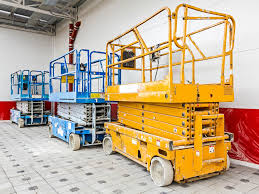Scissor Lift: (103, 3, 236, 187), (47, 48, 121, 150), (9, 69, 51, 129)
